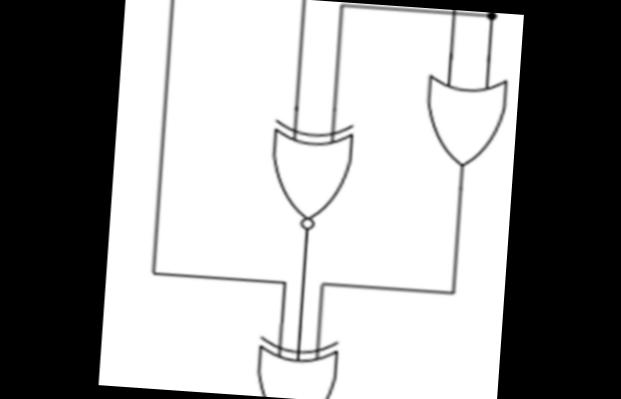or: (416, 68, 512, 176)
xnor: (260, 113, 359, 238)
